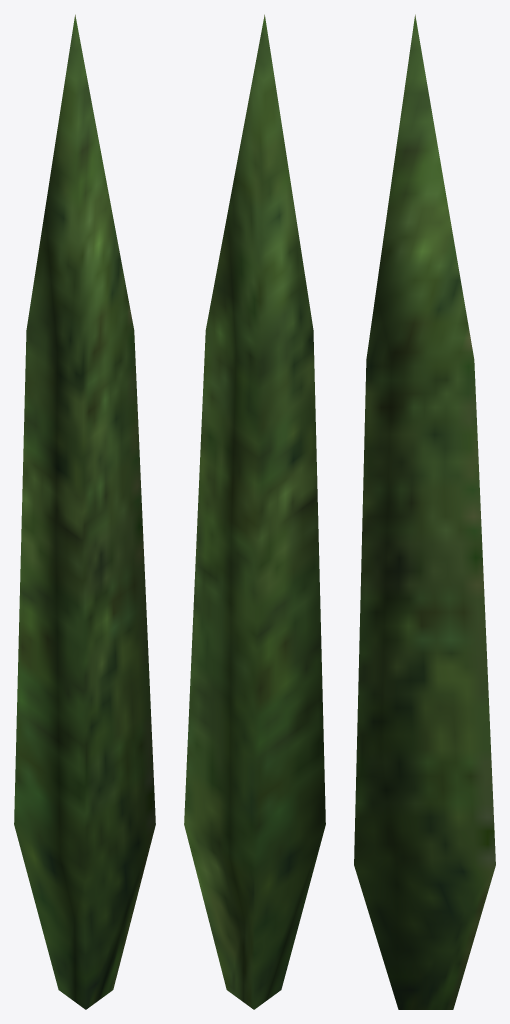
File: terrain_g_cypressa.glb
3 renders of one model, left to right at view 1: azimuth 30°, elevation 25°; view 2: azimuth 150°, elevation 25°; view 3: azimuth 330°, elevation 25°, orthographic.
Visible parts, largest first — view 1: MeshRoot; view 2: MeshRoot; view 3: MeshRoot.
Part boxes in pixels (x1,y1,x2,y2): MeshRoot: (14,14,155,1009); MeshRoot: (184,14,325,1009); MeshRoot: (354,14,495,1009).
Size of the model in its own units: 0.5049 by 4.47 by 0.582.
Materials: 1 (1 with a texture image).
